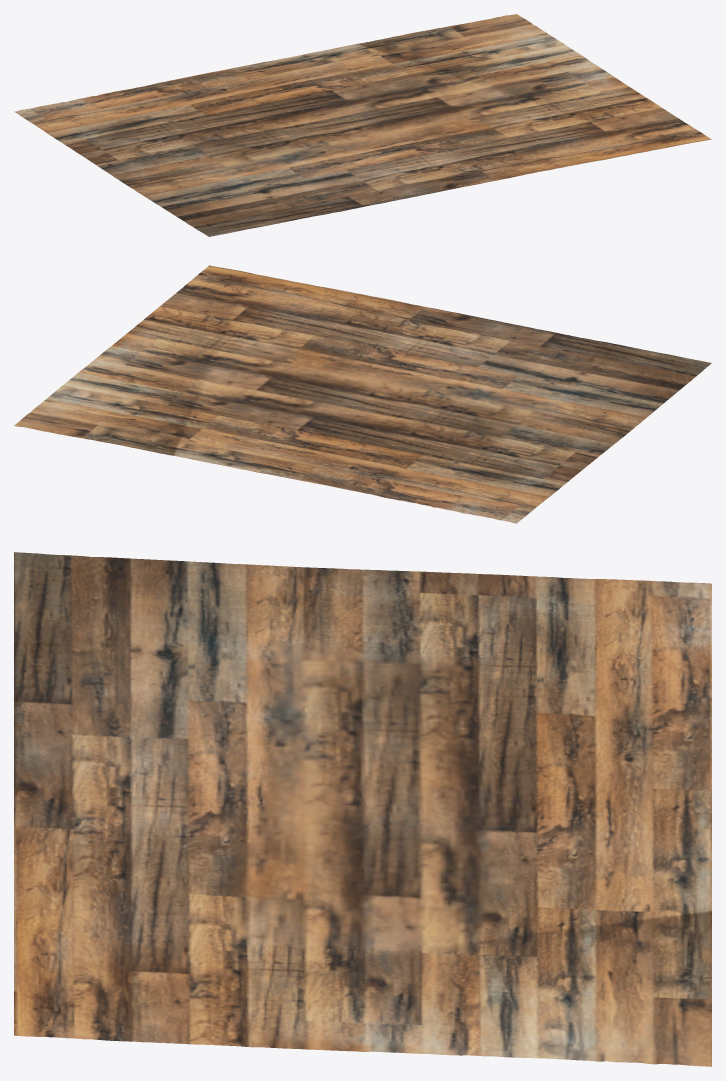
Rendered from photorealistic_wood_floor.glb.
The picture shows the model from 3 angles, top to bottom: view 1: azimuth 30°, elevation 25°; view 2: azimuth 150°, elevation 25°; view 3: azimuth 270°, elevation 25°; orthographic projection. The views are drawn at different scales.
Visible parts, largest first — view 1: Object_2, Object_4, Object_3, Object_5; view 2: Object_2, Object_4, Object_3, Object_5; view 3: Object_2, Object_4, Object_3, Object_5.
Boxes of the visible parts, box(x1,y1,x2,y2) form: Object_2: box(14, 15, 626, 236); Object_4: box(87, 14, 711, 208); Object_3: box(45, 30, 626, 231); Object_5: box(106, 46, 557, 165); Object_2: box(24, 293, 711, 523); Object_4: box(14, 265, 621, 501); Object_3: box(75, 324, 703, 515); Object_5: box(184, 300, 453, 498); Object_2: box(14, 552, 711, 1056); Object_4: box(14, 568, 711, 1066); Object_3: box(14, 554, 711, 1050); Object_5: box(41, 657, 711, 924).
Size of the model in its own units: 1.69 by 0.1367 by 1.14.
Materials: 1 (1 with a texture image).
